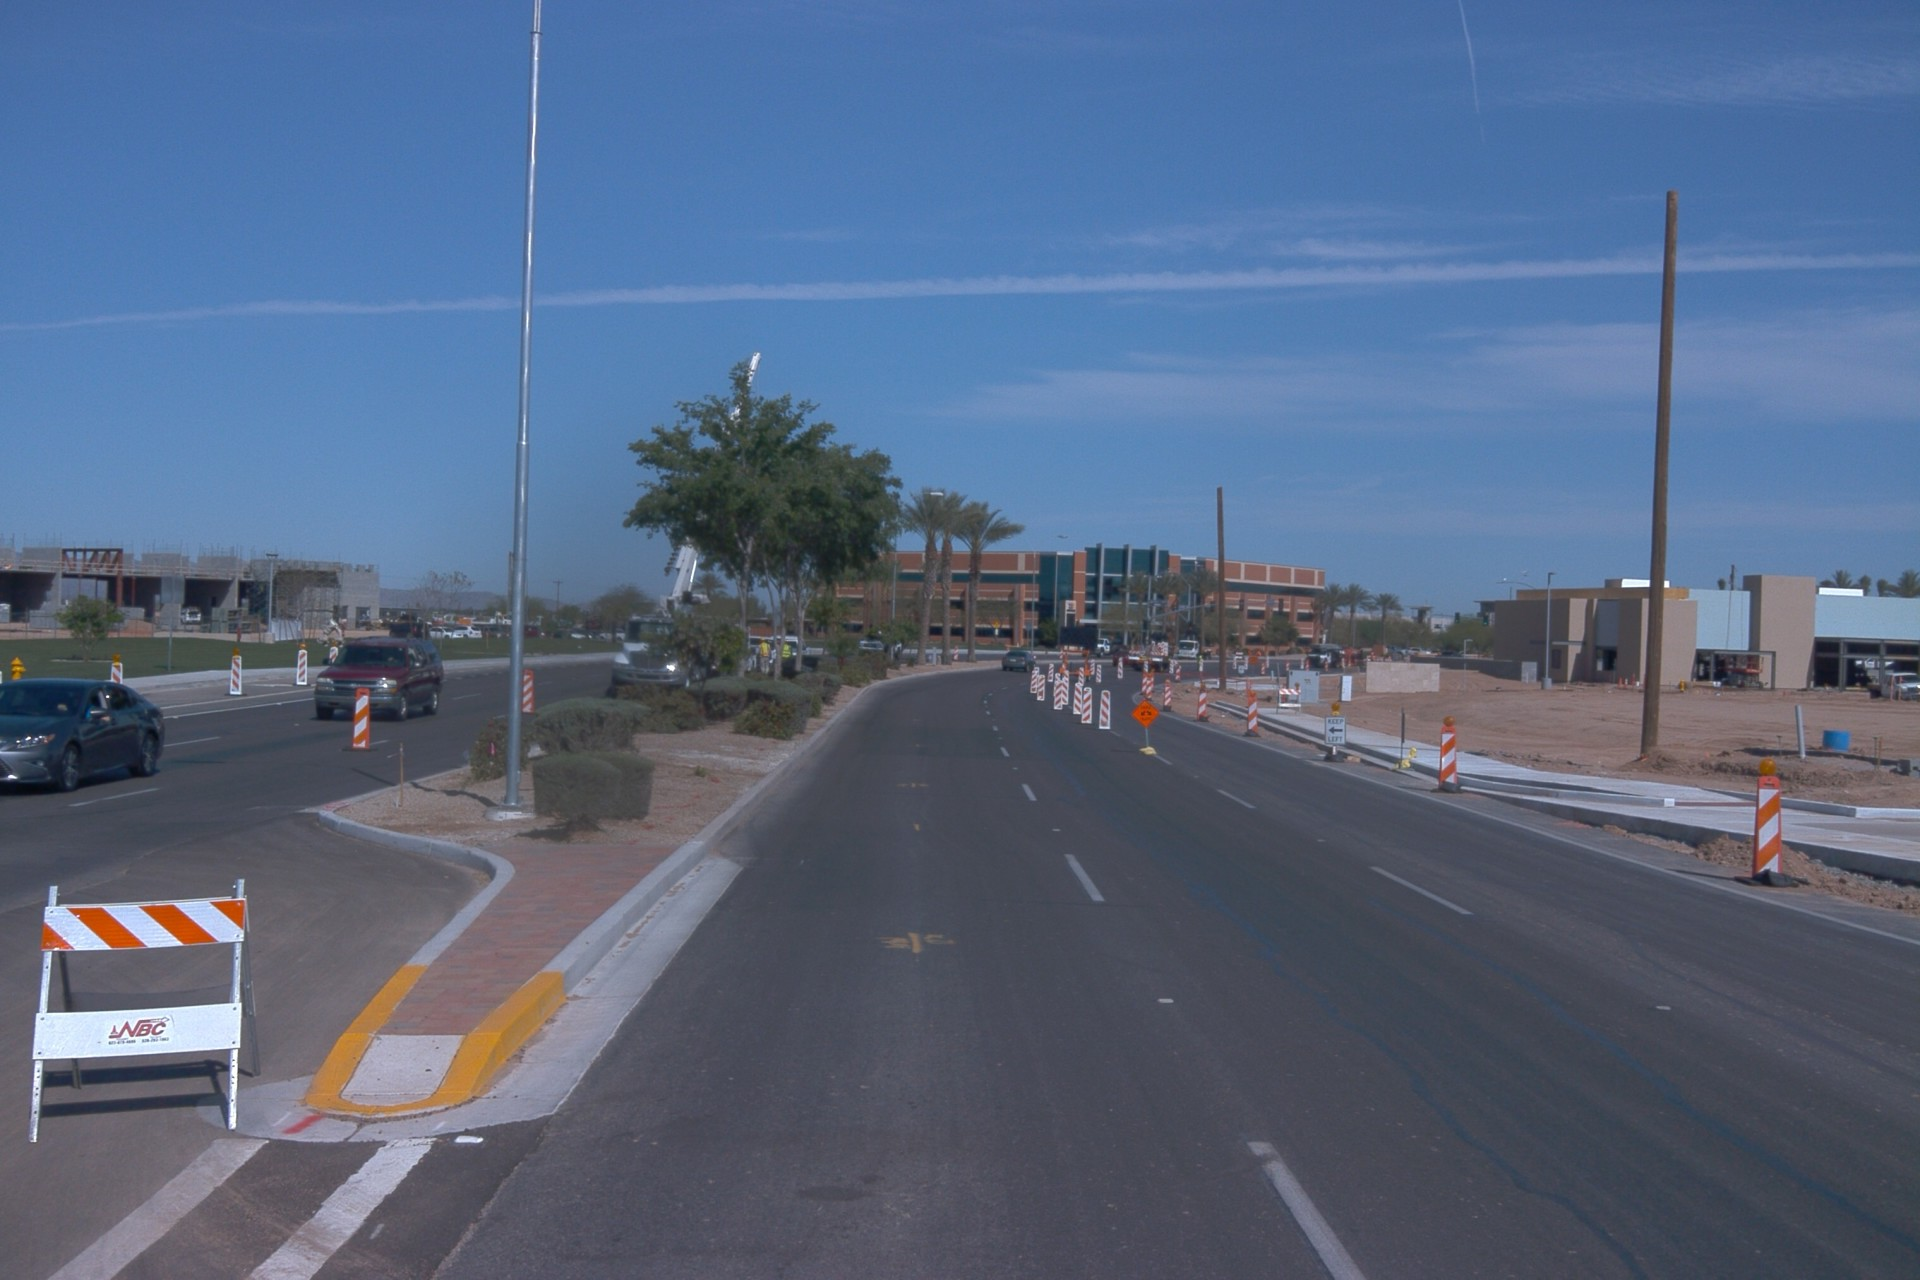TYPE_PEDESTRIAN: (756, 635, 772, 676), (783, 643, 794, 660), (1197, 649, 1202, 672)
TYPE_VEHICLE: (601, 340, 770, 704), (1, 678, 169, 790), (310, 633, 446, 725), (736, 602, 819, 682), (1056, 622, 1102, 688), (1124, 630, 1180, 675), (1304, 642, 1369, 671), (856, 633, 910, 667), (1865, 670, 1918, 703), (771, 628, 809, 671), (1073, 627, 1122, 658), (1001, 648, 1039, 675), (747, 633, 771, 674), (389, 618, 433, 640), (1175, 639, 1215, 662), (387, 613, 435, 632), (517, 623, 557, 642), (426, 623, 465, 641), (482, 621, 512, 642), (595, 626, 625, 645), (179, 604, 202, 625), (450, 624, 482, 639), (1113, 649, 1132, 668)
